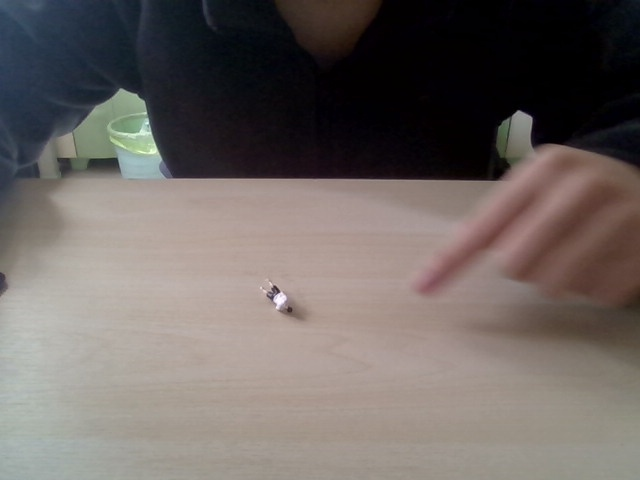fall: (256, 274, 296, 320)
